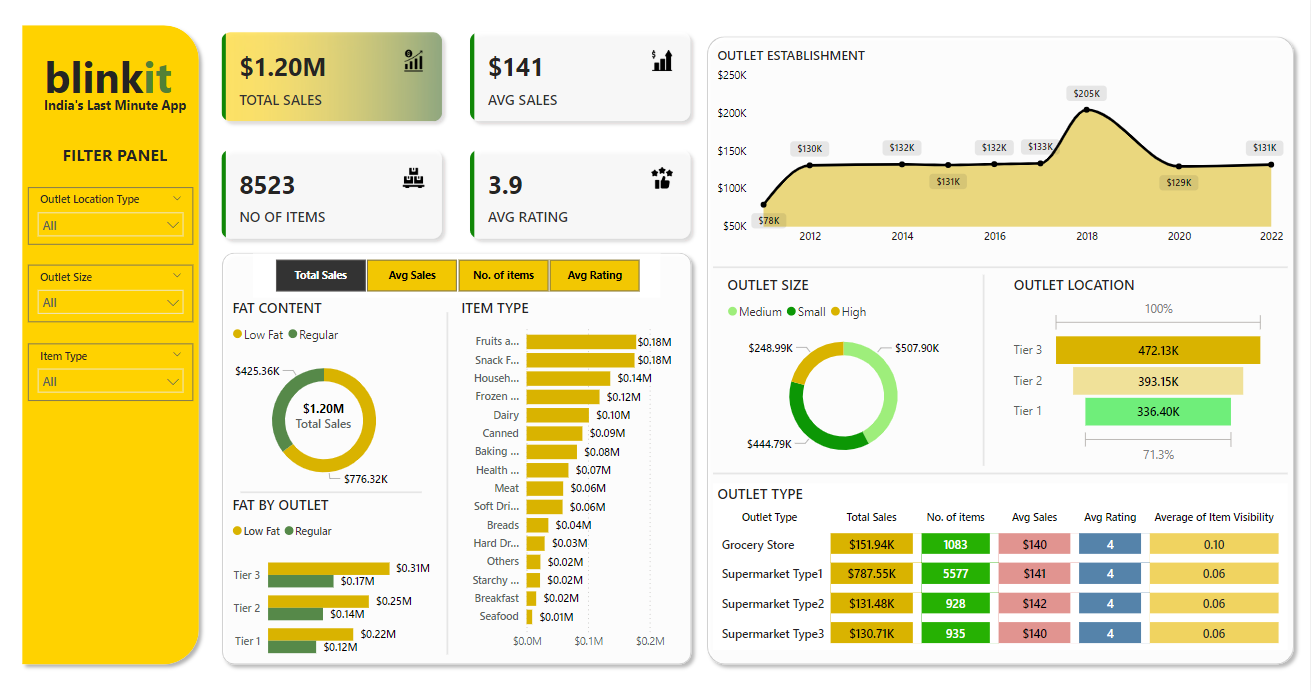

This screenshot's page, from the dashboard's own definition file:
{"tool":"powerbi","page":{"name":"Page 1","canvas":[1500,800],"ordinal":0},"visuals":[{"type":"shape","box":[18.6,24.3,220,748.6],"z":0},{"type":"textbox","box":[281.4,24.3,268.6,65.7],"z":1000},{"type":"textbox","box":[31.4,54.3,188.6,110],"z":2000},{"type":"textbox","box":[18.6,110,201.4,40],"z":3000},{"type":"cardVisual","fields":{"Data":["BlinkIT Grocery Data.Total Sales","BlinkIT Grocery Data.Average Sales","BlinkIT Grocery Data.No. of items","BlinkIT Grocery Data.Average Rating"]},"box":[238.6,24.3,570,270],"z":4000},{"type":"shape","box":[247.1,284.3,554.3,488.6],"z":5000},{"type":"donutChart","title":"FAT CONTENT","fields":{"Y":["BlinkIT Grocery Data.Total Sales"],"Category":["BlinkIT Grocery Data.Item Fat Content"]},"box":[262.9,344.3,220,230],"z":6000},{"type":"slicer","fields":{"Values":["Metrices.Metrices"]},"box":[291.4,294.3,465.7,50],"z":7000},{"type":"cardVisual","fields":{"Data":["BlinkIT Grocery Data.Total Sales"]},"box":[315.7,442.9,112.9,74.3],"z":8000},{"type":"clusteredBarChart","title":"FAT BY OUTLET","fields":{"Y":["BlinkIT Grocery Data.Total Sales"],"Category":["BlinkIT Grocery Data.Outlet Location Type"],"Series":["BlinkIT Grocery Data.Item Fat Content"]},"box":[262.9,570,235.7,202.9],"z":9000},{"type":"shape","box":[277.1,550,207.1,34.3],"z":10000},{"type":"shape","box":[465.7,361.4,95.7,391.4],"z":11000},{"type":"barChart","title":"ITEM TYPE","fields":{"Y":["BlinkIT Grocery Data.Total Sales"],"Category":["BlinkIT Grocery Data.Item Type"]},"box":[524.3,344.3,267.1,411.4],"z":12000},{"type":"shape","box":[801.4,37.1,688.6,735.7],"z":13000},{"type":"lineChart","title":"OUTLET ESTABLISHMENT","fields":{"Category":["BlinkIT Grocery Data.Outlet Establishment Year"],"Y":["BlinkIT Grocery Data.Total Sales"]},"box":[817.1,57.1,657.1,235.7],"z":14000},{"type":"shape","box":[817.1,292.9,657.1,34.3],"z":15000},{"type":"donutChart","title":"OUTLET SIZE","fields":{"Y":["BlinkIT Grocery Data.Total Sales"],"Category":["BlinkIT Grocery Data.Outlet Size"]},"box":[828.6,318.6,275.7,225.7],"z":16000},{"type":"shape","box":[1078.6,318.6,95.7,218.6],"z":17000},{"type":"funnel","title":"OUTLET LOCATION","fields":{"Y":["Sum(BlinkIT Grocery Data.Sales)"],"Category":["BlinkIT Grocery Data.Outlet Location Type"]},"box":[1155.7,318.6,297.1,221.4],"z":18000},{"type":"shape","box":[817.1,528.6,657.1,34.3],"z":19000},{"type":"pivotTable","title":"OUTLET TYPE","fields":{"Rows":["BlinkIT Grocery Data.Outlet Type"],"Values":["BlinkIT Grocery Data.Total Sales","BlinkIT Grocery Data.No. of items","BlinkIT Grocery Data.Avg Sales","BlinkIT Grocery Data.Avg Rating","Avg(BlinkIT Grocery Data.Item Visibility)"]},"box":[817.1,557.1,657.1,190],"z":20000},{"type":"slicer","fields":{"Values":["BlinkIT Grocery Data.Outlet Location Type"]},"box":[34.3,218.6,188.6,65.7],"z":20001},{"type":"slicer","fields":{"Values":["BlinkIT Grocery Data.Outlet Size"]},"box":[34.3,307.1,188.6,65.7],"z":20002},{"type":"slicer","fields":{"Values":["BlinkIT Grocery Data.Item Type"]},"box":[34.3,397.1,188.6,65.7],"z":20003},{"type":"textbox","box":[34.3,164.3,164.3,40],"z":20004}]}

Visuals, with their boxes in screenshot pixels (x1, y1, x2, y2), scaled from the page's 1500x800 canvas onto the 1311x692 screenshot:
shape: Rect(16, 21, 209, 669)
textbox: Rect(246, 21, 481, 78)
textbox: Rect(27, 47, 192, 142)
textbox: Rect(16, 95, 192, 130)
cardVisual - BlinkIT Grocery Data.Total Sales x BlinkIT Grocery Data.Average Sales: Rect(209, 21, 707, 255)
shape: Rect(216, 246, 700, 669)
"FAT CONTENT" donutChart: Rect(230, 298, 422, 497)
slicer - Metrices.Metrices: Rect(255, 255, 662, 298)
cardVisual - BlinkIT Grocery Data.Total Sales: Rect(276, 383, 375, 447)
"FAT BY OUTLET" clusteredBarChart: Rect(230, 493, 436, 669)
shape: Rect(242, 476, 423, 505)
shape: Rect(407, 313, 491, 651)
"ITEM TYPE" barChart: Rect(458, 298, 692, 654)
shape: Rect(700, 32, 1302, 668)
"OUTLET ESTABLISHMENT" lineChart: Rect(714, 49, 1288, 253)
shape: Rect(714, 253, 1288, 283)
"OUTLET SIZE" donutChart: Rect(724, 276, 965, 471)
shape: Rect(943, 276, 1026, 465)
"OUTLET LOCATION" funnel: Rect(1010, 276, 1270, 467)
shape: Rect(714, 457, 1288, 487)
"OUTLET TYPE" pivotTable: Rect(714, 482, 1288, 646)
slicer - BlinkIT Grocery Data.Outlet Location Type: Rect(30, 189, 195, 246)
slicer - BlinkIT Grocery Data.Outlet Size: Rect(30, 266, 195, 322)
slicer - BlinkIT Grocery Data.Item Type: Rect(30, 343, 195, 400)
textbox: Rect(30, 142, 174, 177)
